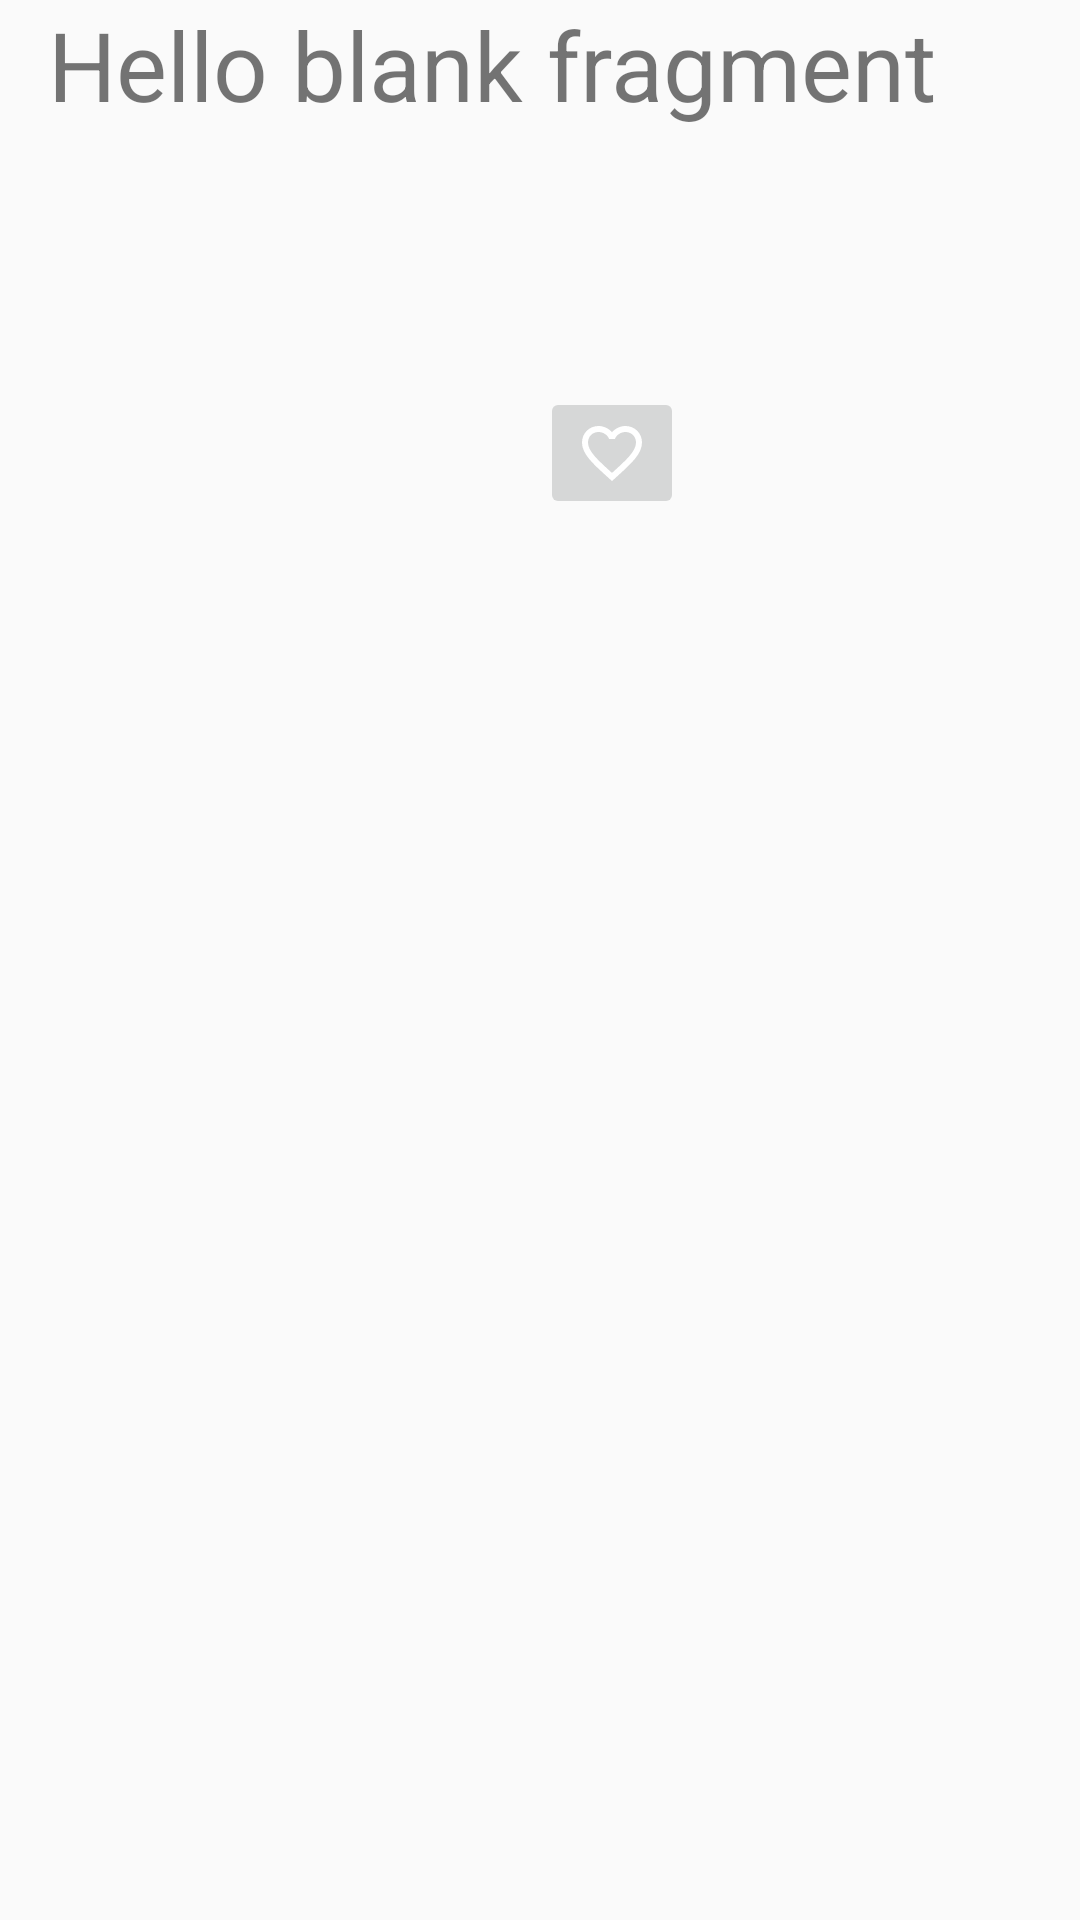

Icons on this 1080x1920 Android screen, each with its box as bbox(x1, y1, x2, y2):
favorite: bbox(552, 405, 672, 501)
